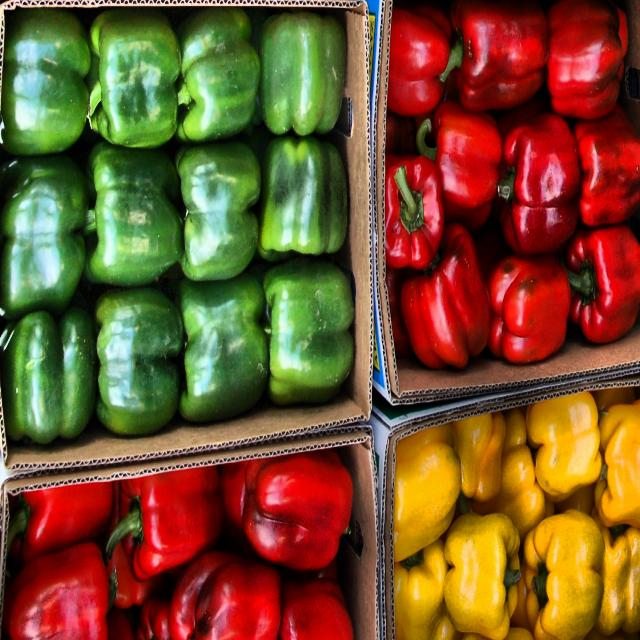capsicum: (389, 420, 630, 632)
green pepper: (7, 9, 350, 429)
red capsicum: (384, 13, 640, 364)
